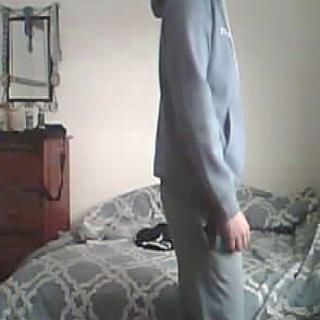Blue Hoodie: (149, 0, 250, 191)
Blue Sweatpants: (156, 177, 252, 320)
